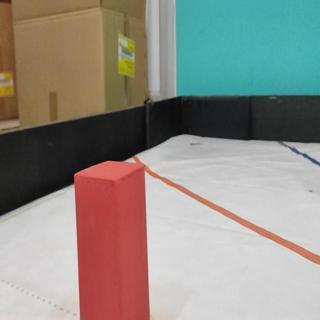redbox: (73, 159, 151, 320)
